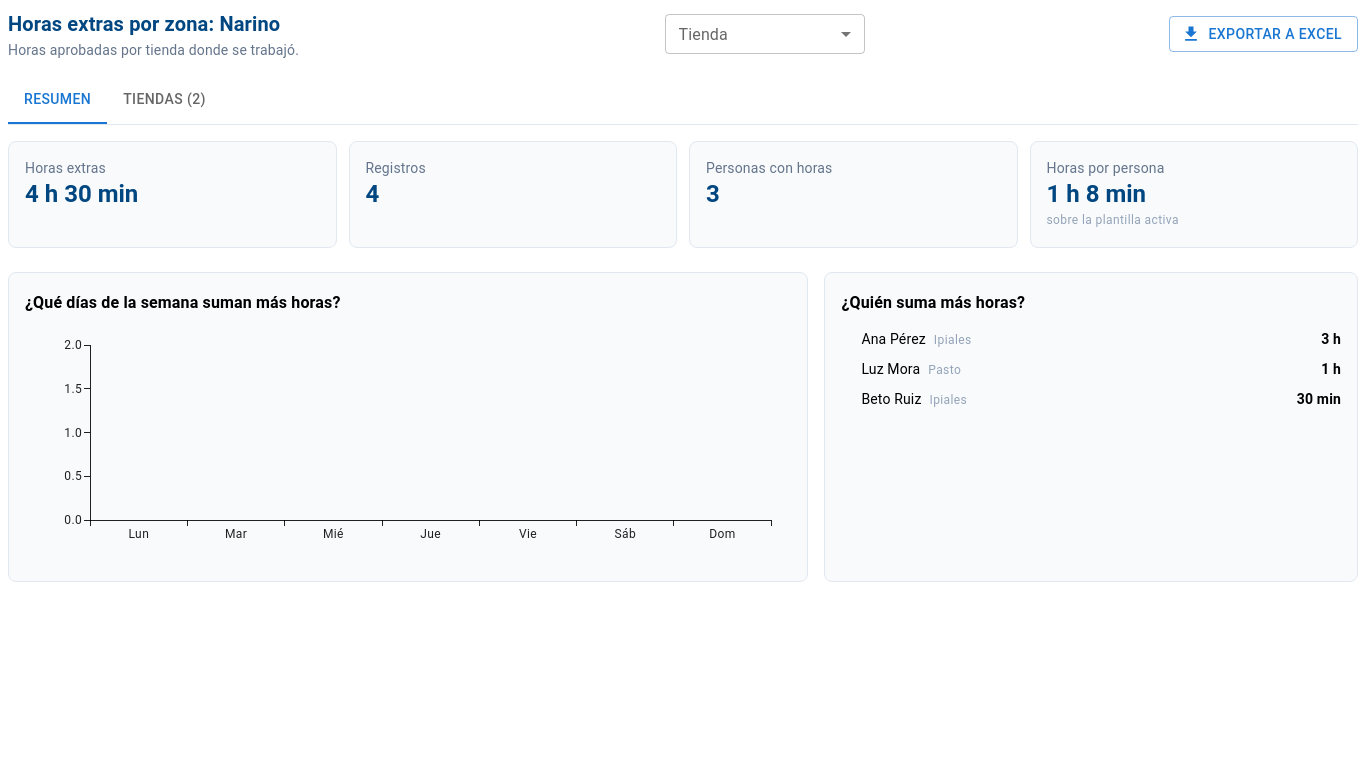
Reportes · Horas extras por zona › filtro de tienda: el jefe elige una de sus tiendas
Press the mouse on the dropdown named "Tienda": (764, 34) [664, 14, 864, 54]
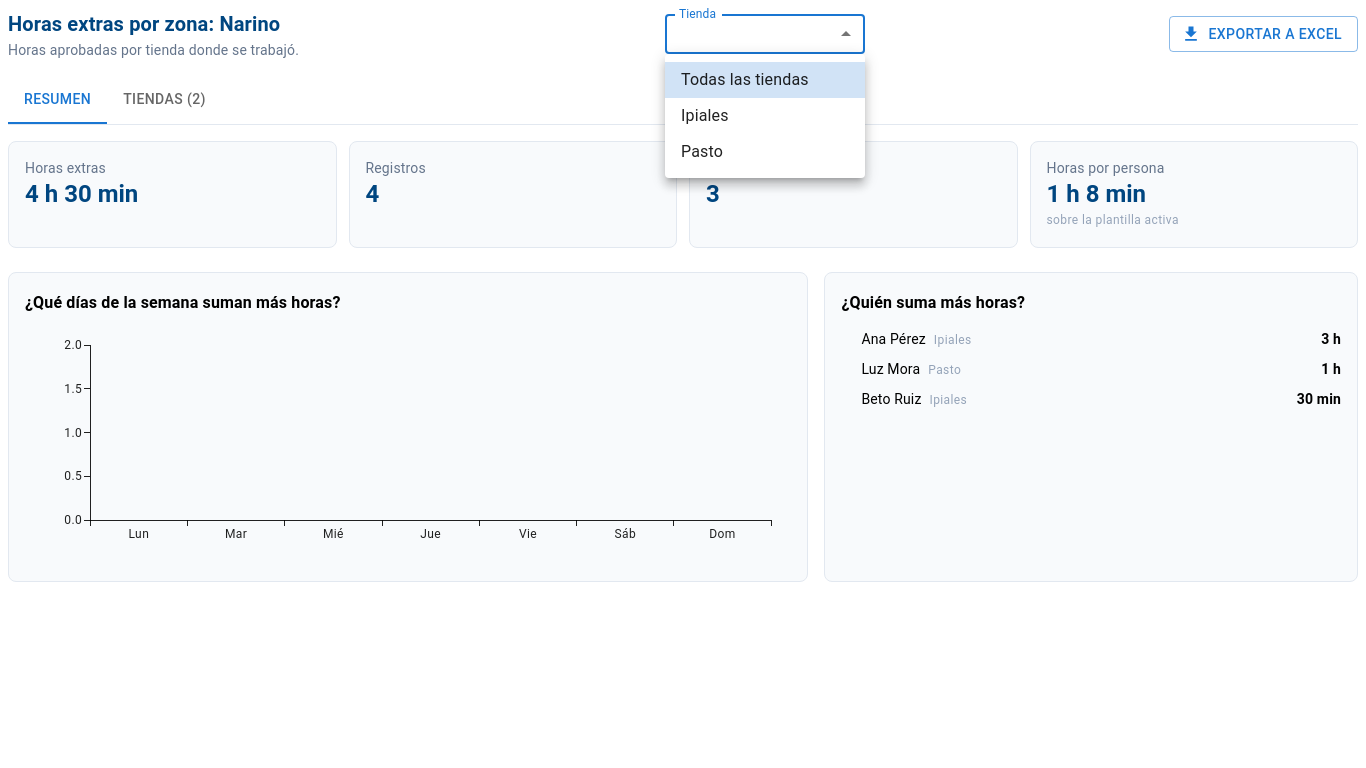
expect the options read "Todas las tiendas", "Ipiales", "Pasto", in this order: met
Click the option "Pasto": (702, 152) [681, 142, 723, 161]
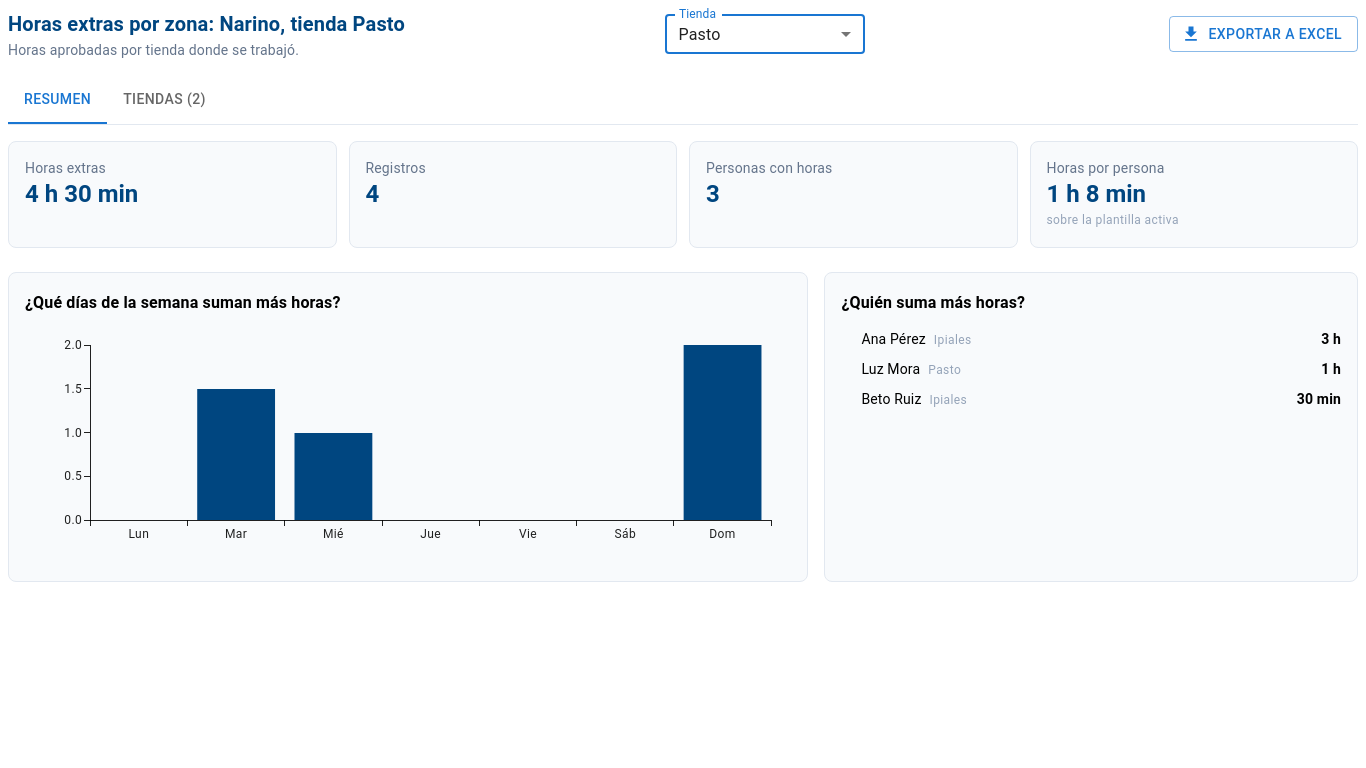
expect the heading "Horas extras por zona: Narino, tienda Pasto" is shown: met, box [8, 8, 405, 40]
